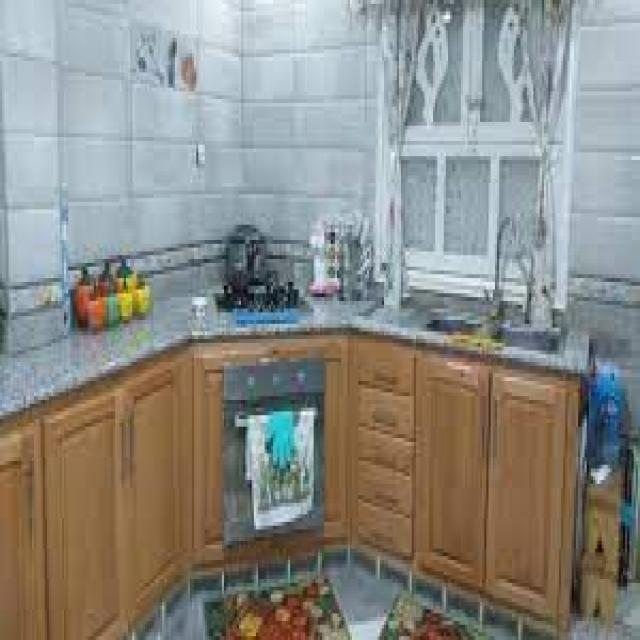oven: (218, 336, 331, 583)
tap: (492, 202, 520, 314)
wardrobe: (423, 356, 580, 640), (47, 372, 197, 602)
wash basin: (418, 284, 495, 353), (499, 296, 584, 357)
window: (396, 10, 552, 291)
